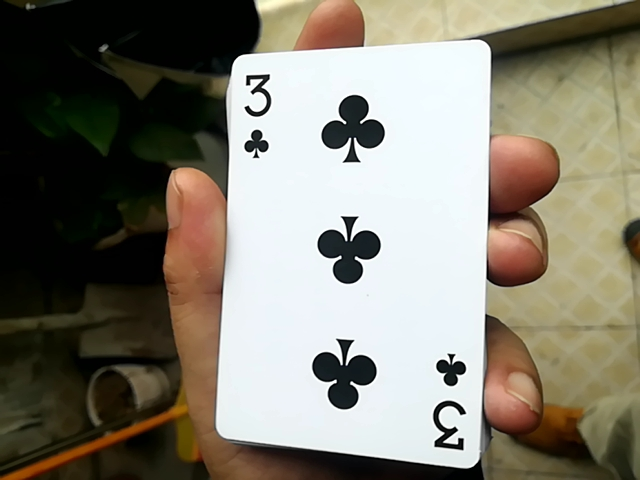mh 3: (208, 38, 489, 475)
